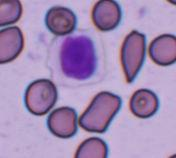L: (50, 32, 106, 84)
